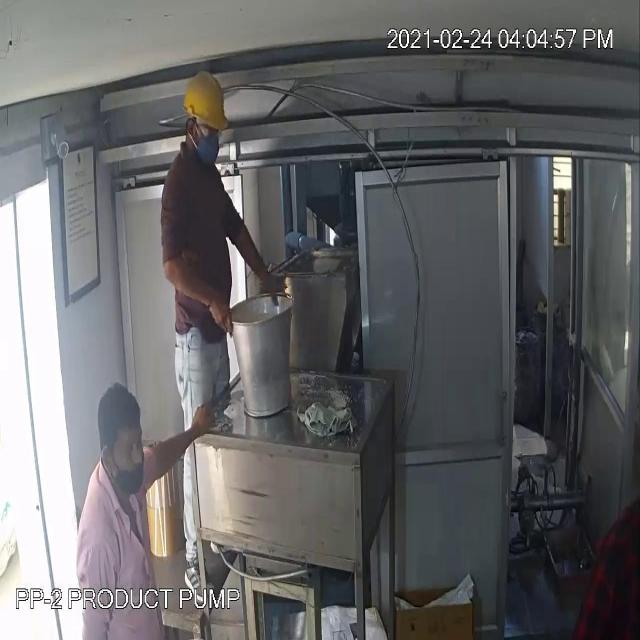helmet: (180, 62, 232, 142)
no-helmet: (93, 374, 155, 456)
